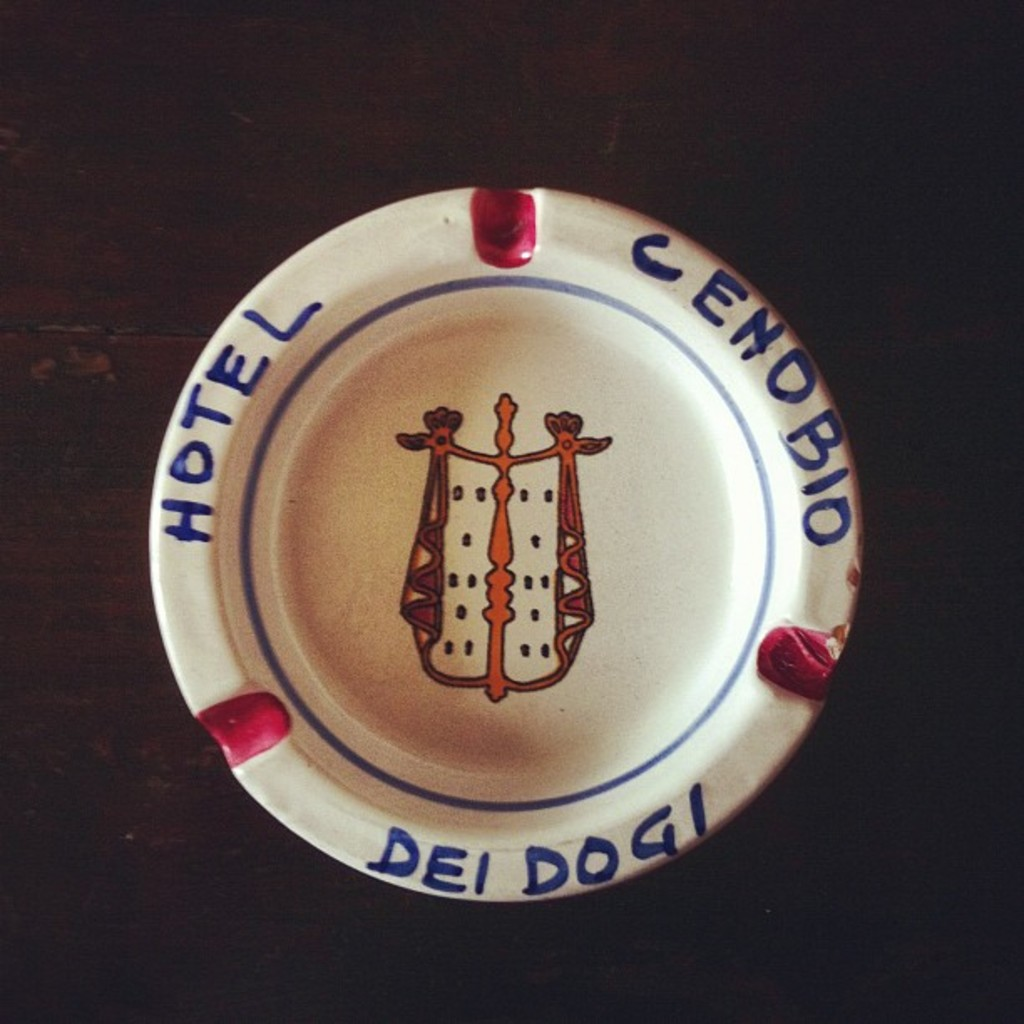plate: (147, 189, 865, 926)
